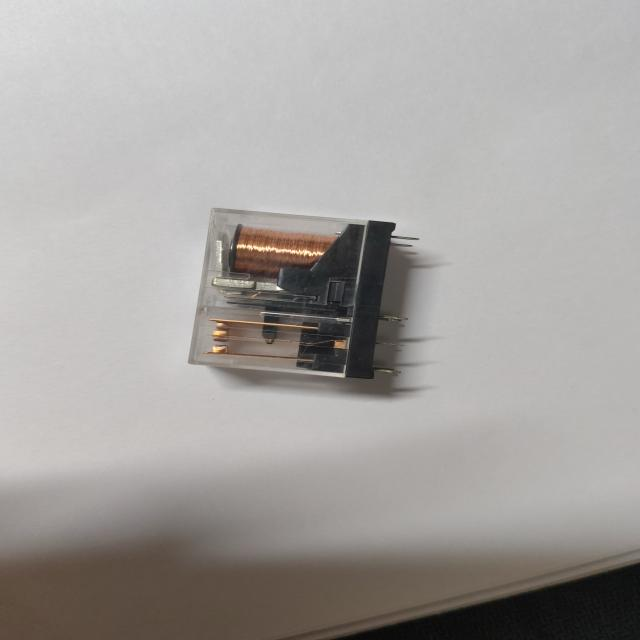relay: (179, 197, 438, 397)
